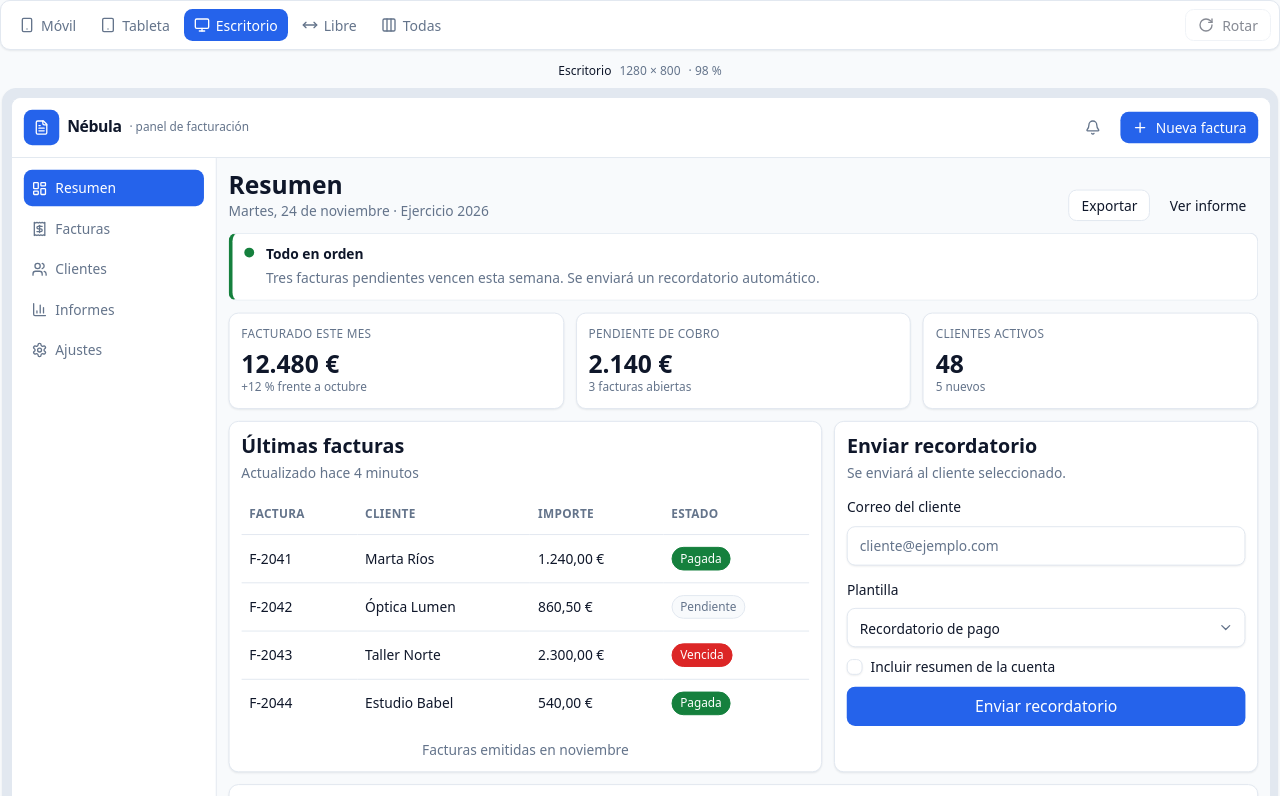
Test case: DevicePreview › cambia a móvil y rota a horizontal
This screenshot has width=1280, height=796.
Click the button "Móvil". click: click(48, 25)
box: [9,9,86,41]
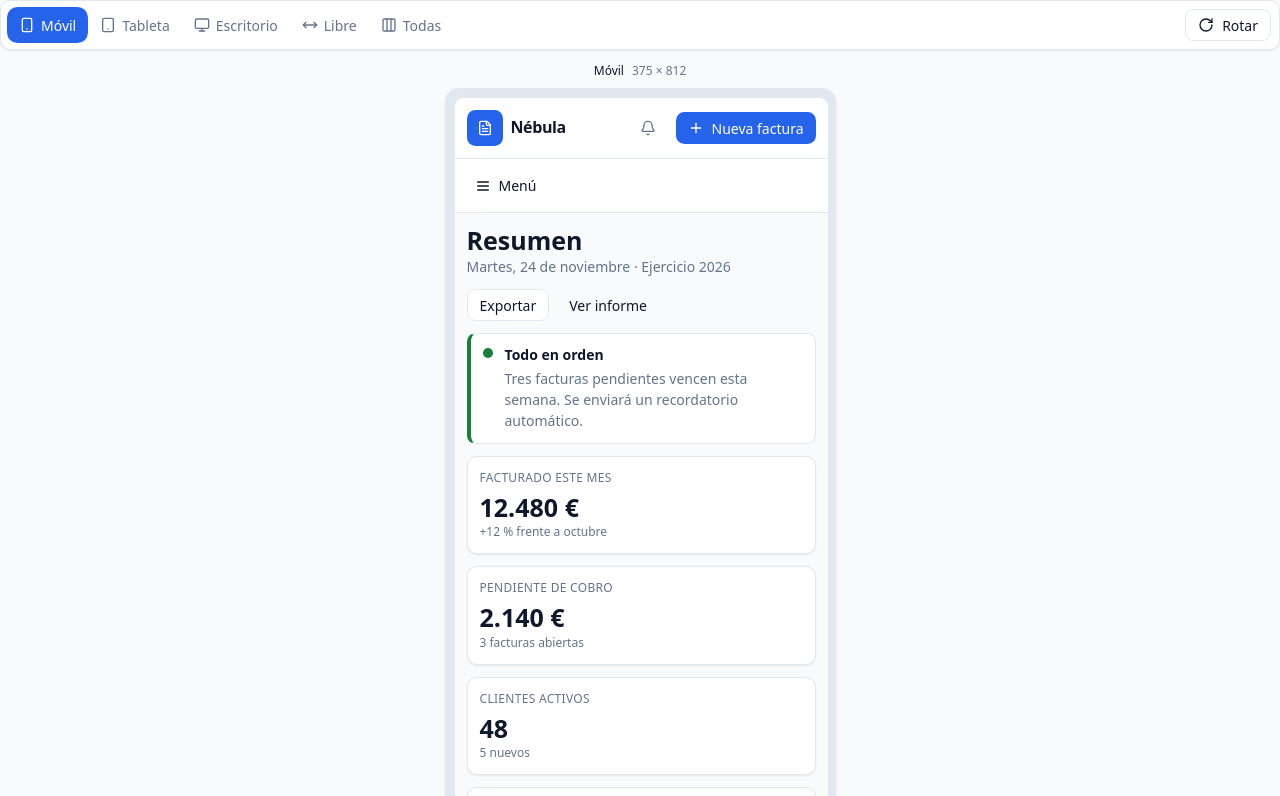
Click the button with aria-label "Rotar dispositivo". click: click(1228, 25)
box: [1185,9,1271,41]
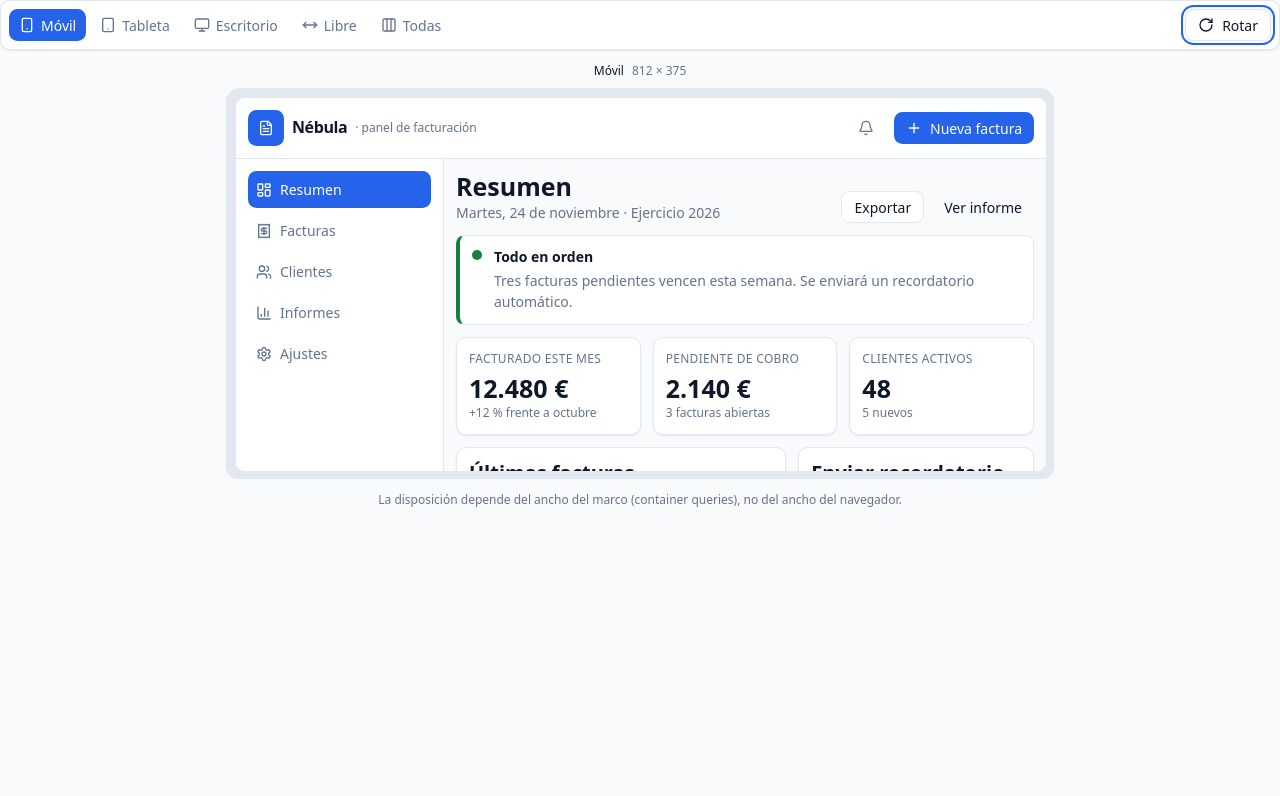
Expected: the button "Móvil" is pressed, [9,9,86,41]
